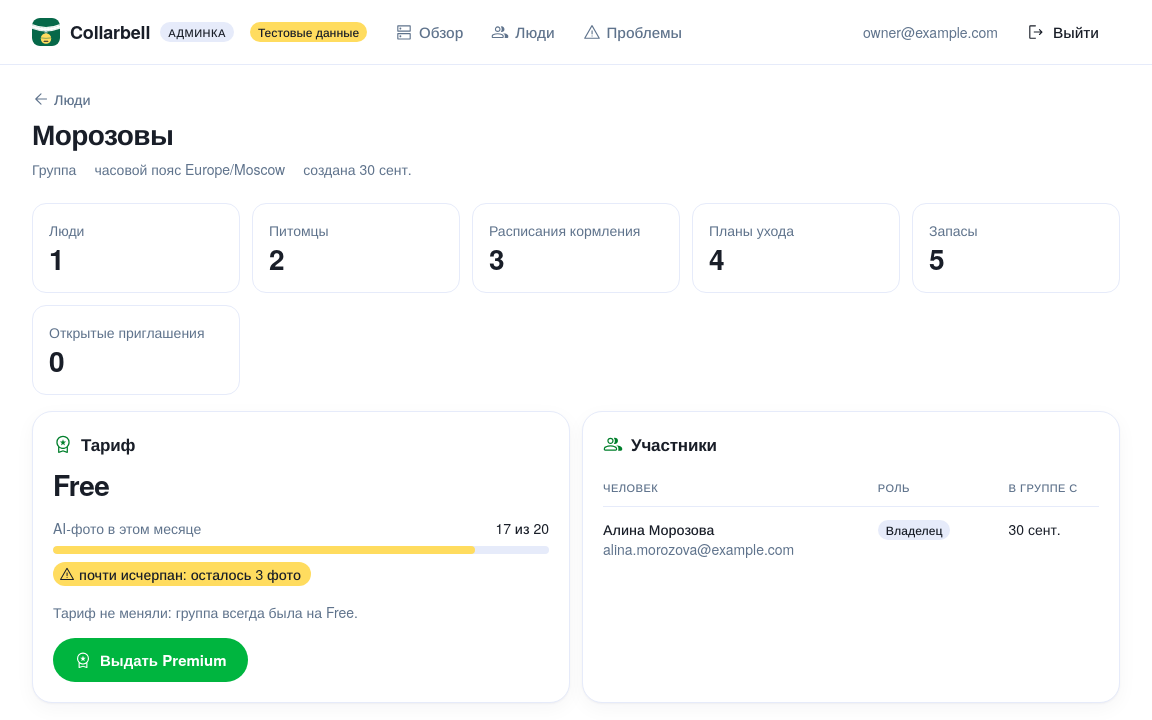
it: Тариф › holds the form while saving
Click the button "Выдать Premium" at (150, 660), box [53,638,248,682]
(page scrolled)
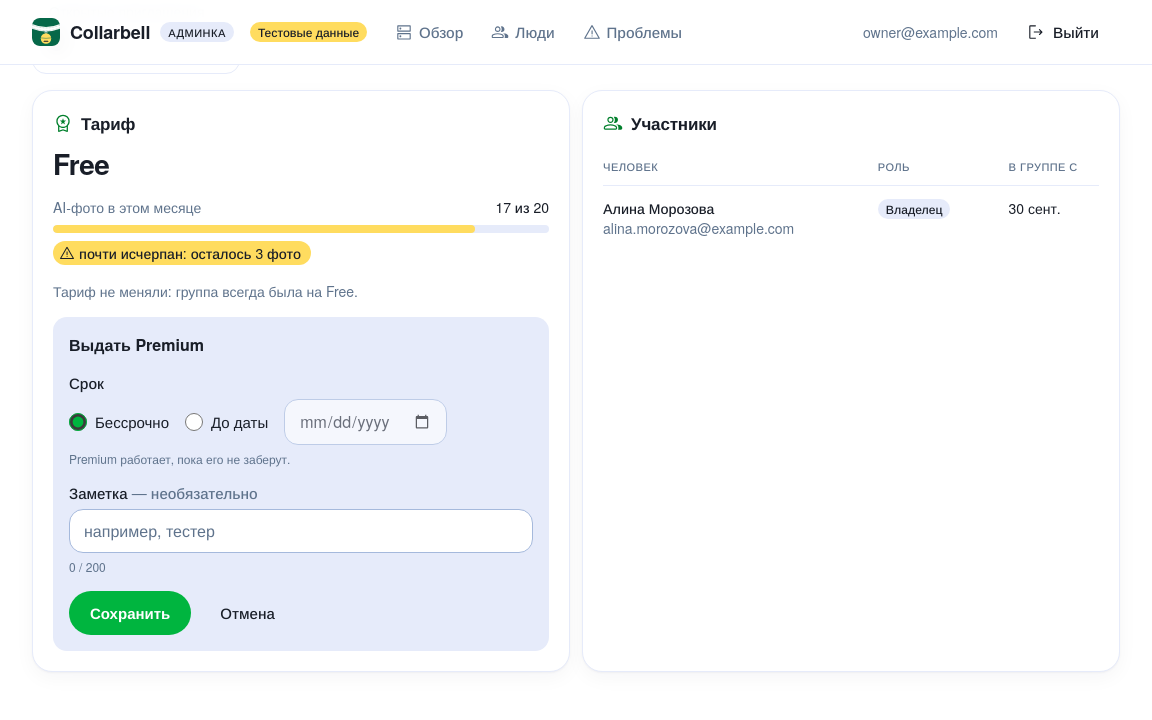
Click the button "Сохранить" at (130, 613), box [69,591,191,635]
(page scrolled)
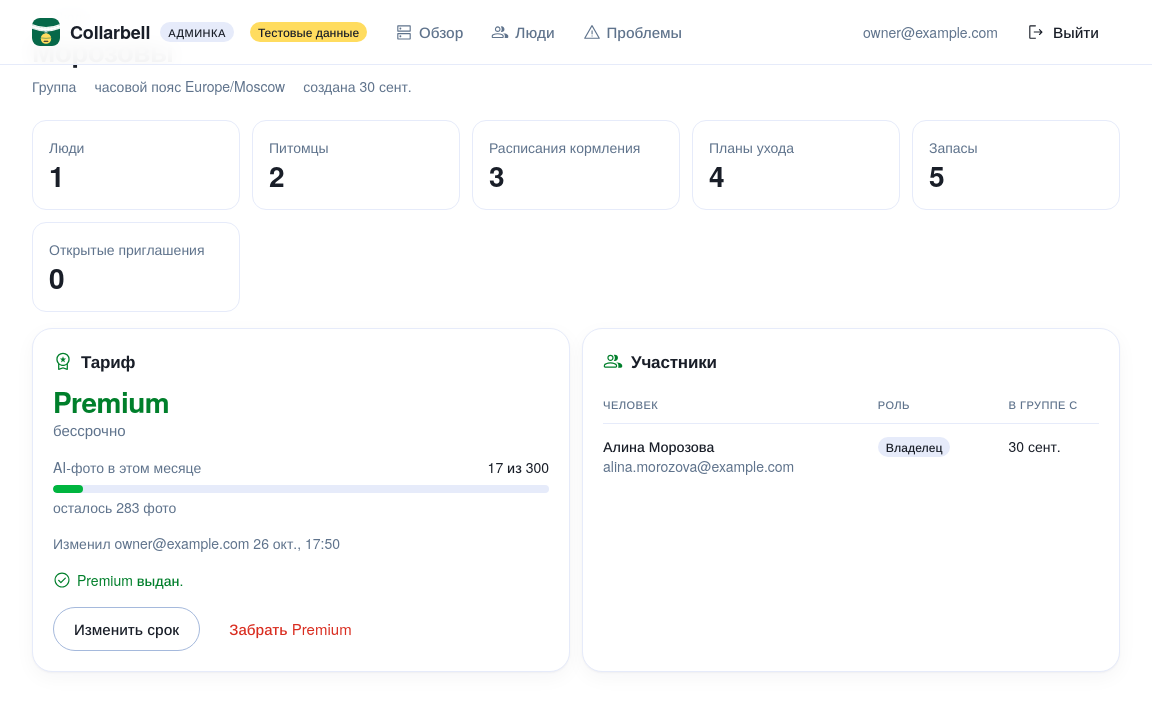
Expected: the text "Premium выдан." is shown, [53,570,183,590]
